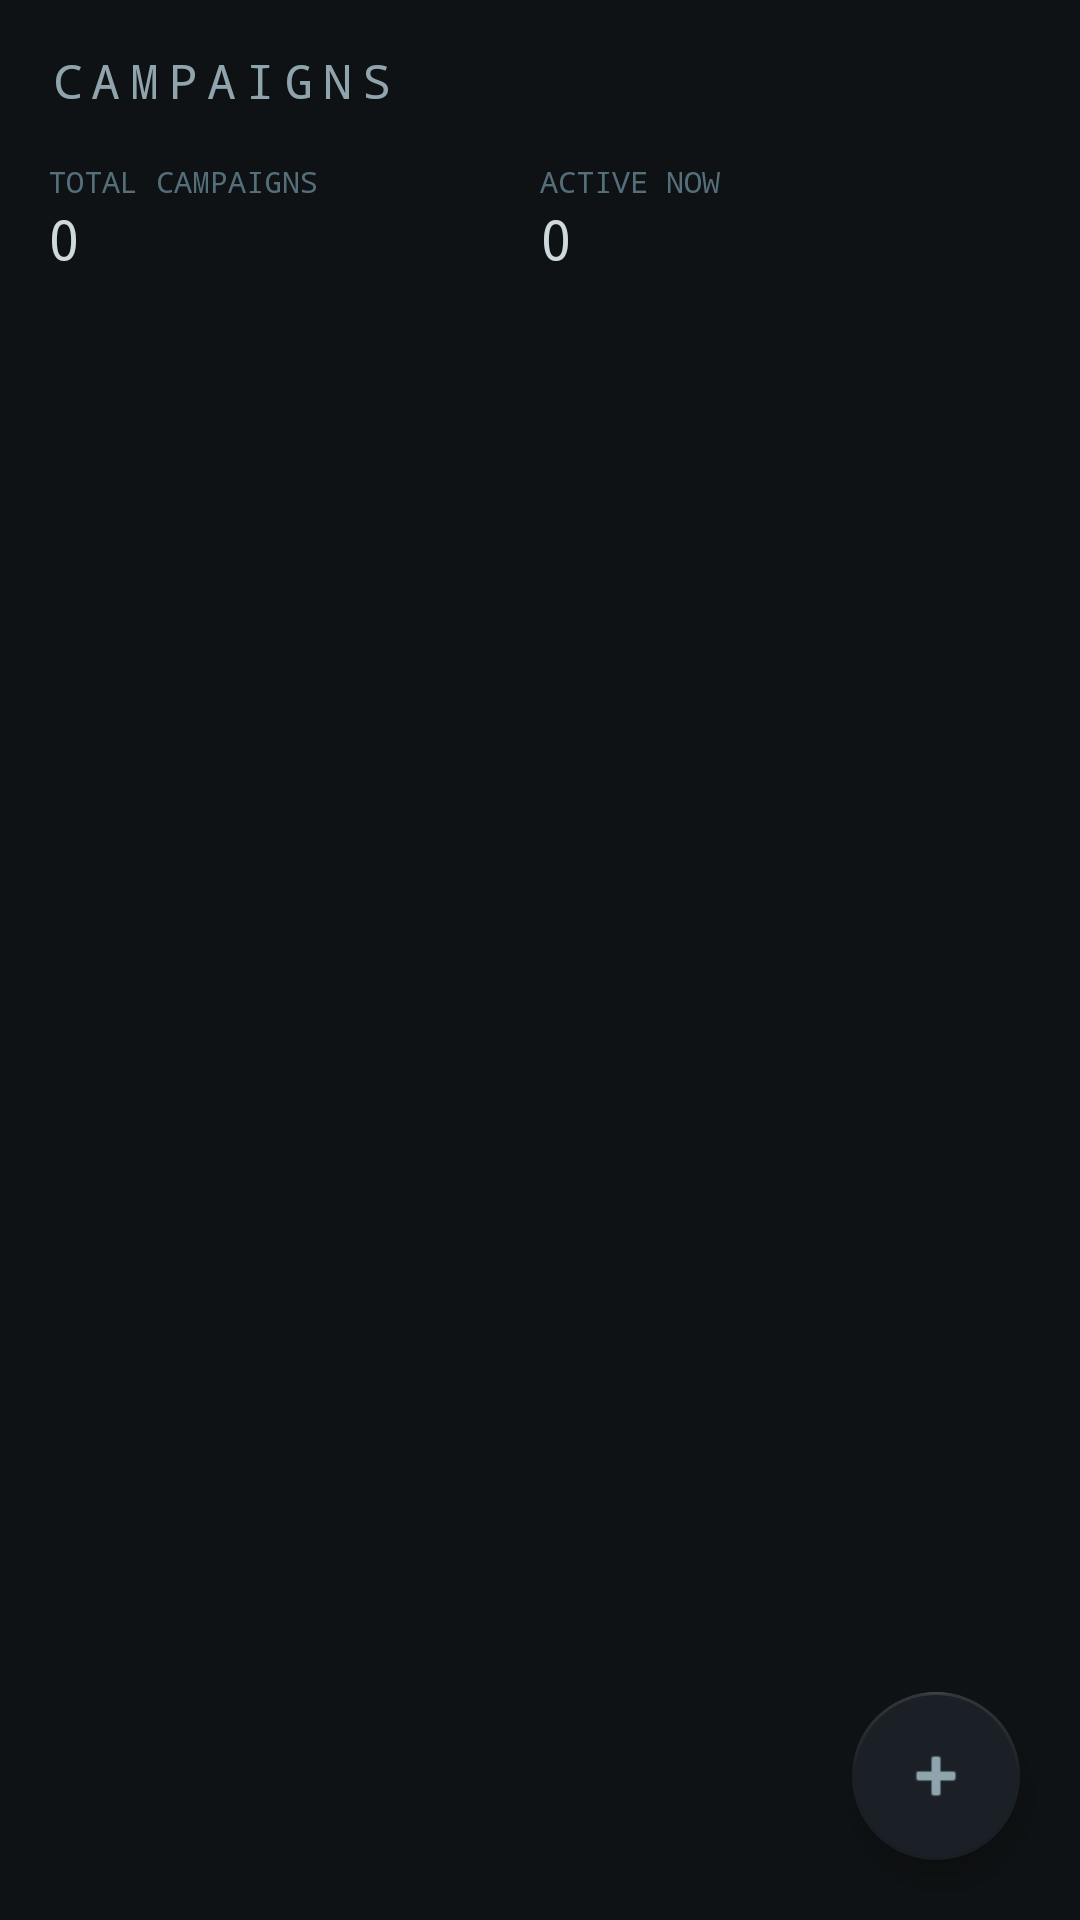

Icon bounding boxes for this 1080×1920 phone screenshot, format [left=x1, top=y1, right=x2, bottom=y2]:
Create campaign: [left=852, top=1692, right=1020, bottom=1860]
